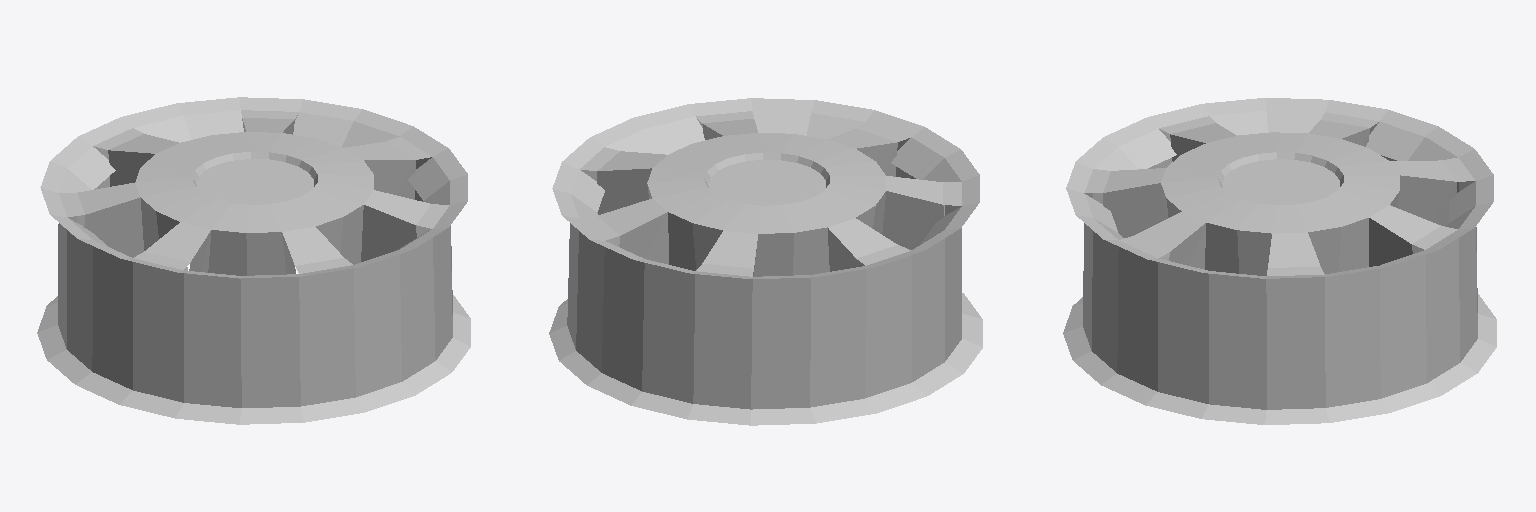
The model's file is wheel.obj.
The picture shows the model from 3 angles: view 1: azimuth 30°, elevation 25°; view 2: azimuth 150°, elevation 25°; view 3: azimuth 270°, elevation 25°; orthographic projection.
Visible parts, largest first — view 1: Object01; view 2: Object01; view 3: Object01.
Boxes of the visible parts, box(x1,y1,x2,y2) form: Object01: box(37, 97, 470, 424); Object01: box(549, 98, 982, 425); Object01: box(1063, 98, 1496, 424).
Bounding box in the file's own units: 0.3732 × 0.1461 × 0.3721.